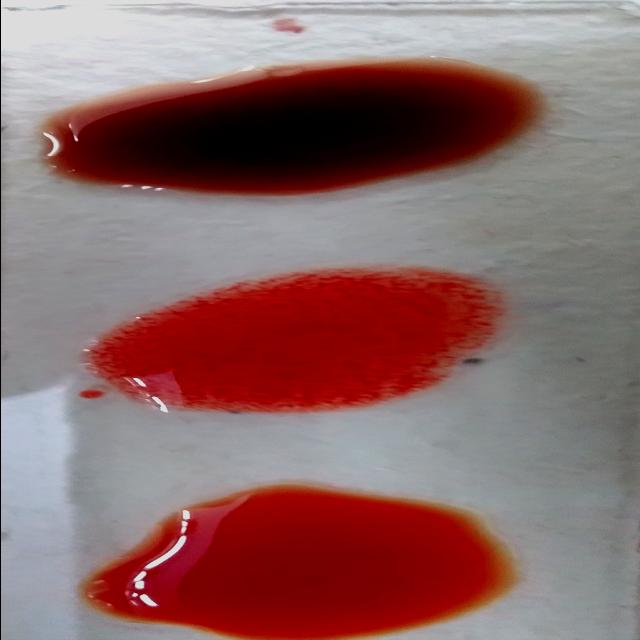D: (90, 267, 502, 409)
